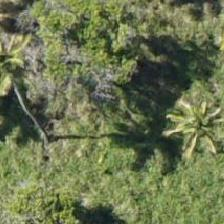coconut_tree: (142, 79, 223, 169), (0, 23, 46, 113)
